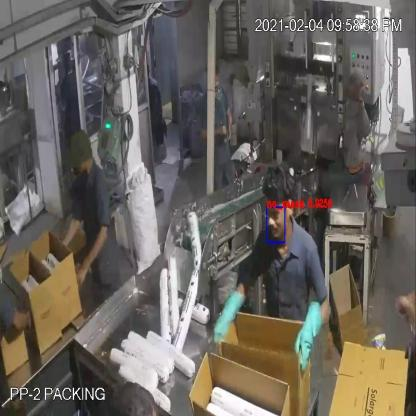glove: (292, 294, 330, 373), (207, 282, 248, 352)
no_glove: (72, 221, 115, 292), (53, 208, 84, 258), (6, 297, 32, 332), (195, 115, 226, 140), (224, 103, 234, 150)
